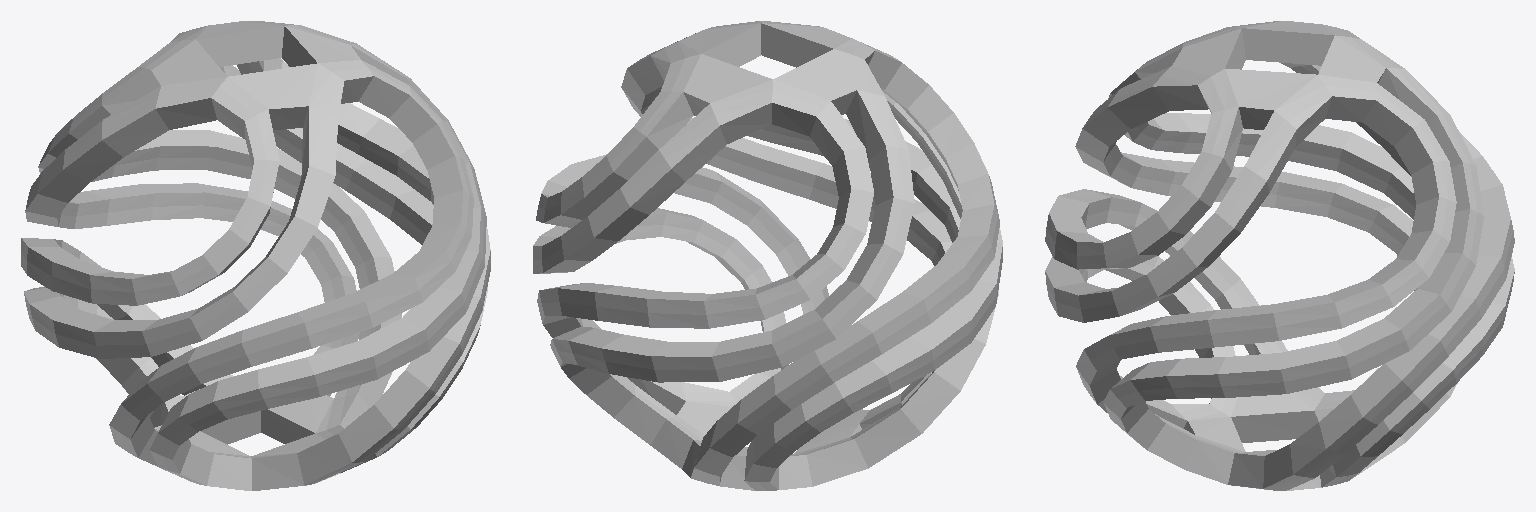
Rendered from NewStationGround.obj.
3 renders of one model, left to right at view 1: azimuth 30°, elevation 25°; view 2: azimuth 150°, elevation 25°; view 3: azimuth 270°, elevation 25°, orthographic.
Parts seen in each view (by area): view 1: Cube_Cube.003; view 2: Cube_Cube.003; view 3: Cube_Cube.003.
Part boxes in pixels (x1,y1,x2,y2): Cube_Cube.003: (21, 21, 490, 490); Cube_Cube.003: (533, 21, 1002, 490); Cube_Cube.003: (1045, 21, 1514, 490).
Bounding box in the file's own units: 3.61 × 3.47 × 3.61.